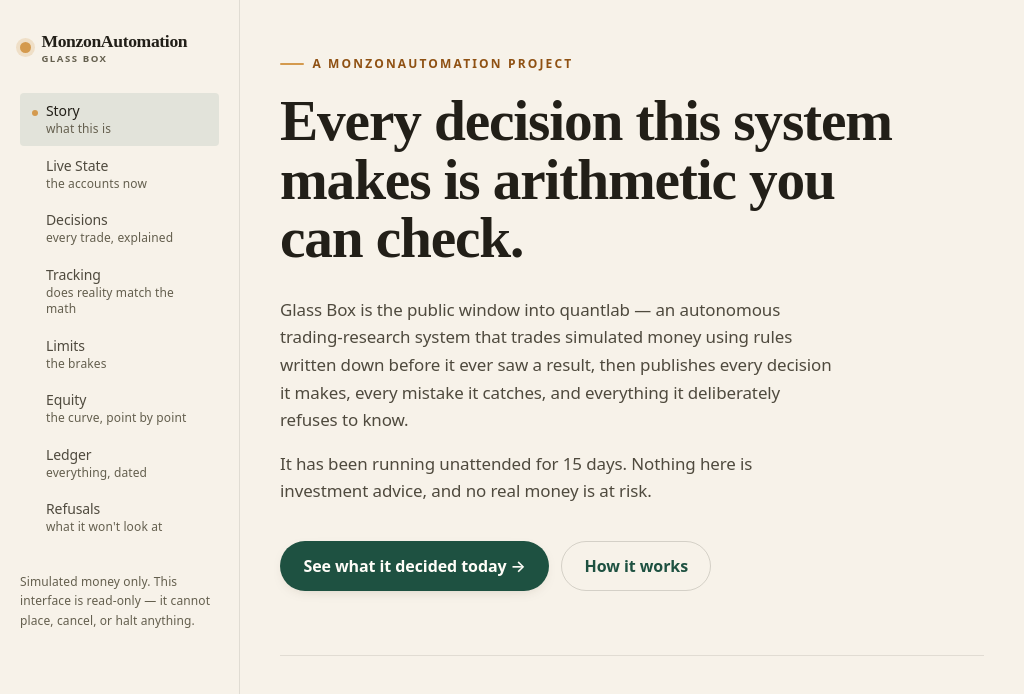
Test case: App shell in snapshot mode › navigates in snapshot mode without reaching for /api
Expected: the header with test id "story-hero" is shown, [280,46,984,591]
Click the link "Live State the accounts now". click: point(96, 174)
box: [46,156,147,192]
(page scrolled)
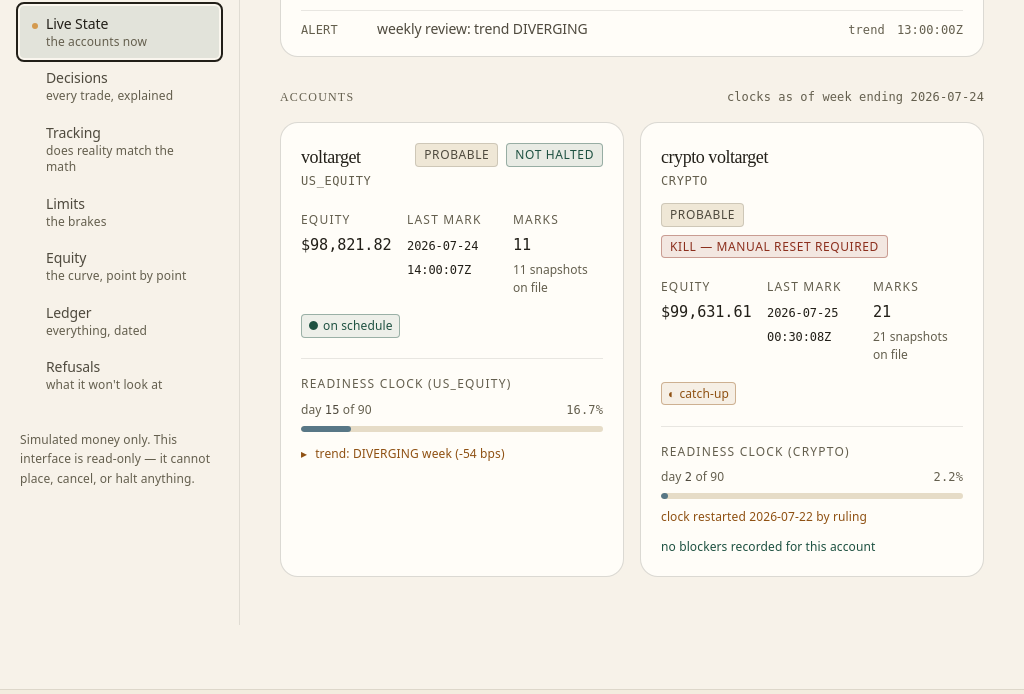
Expected: the element with test id "account-card-voltarget" is shown, [280,122,624,577]
